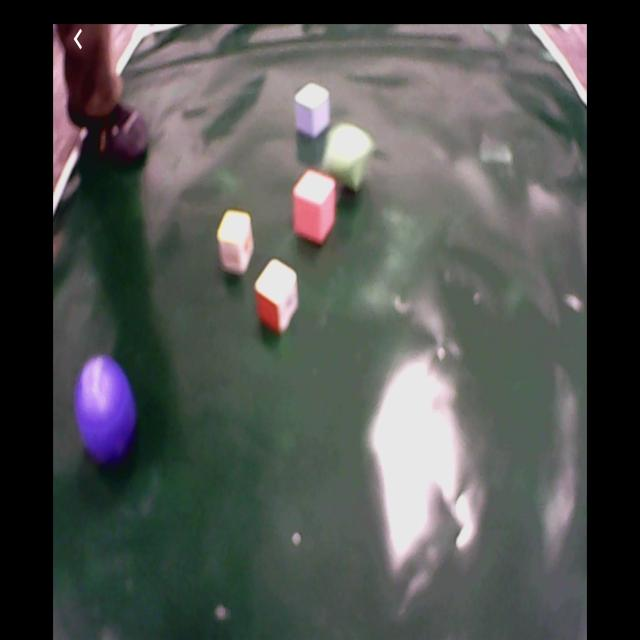ball: (76, 358, 136, 466)
